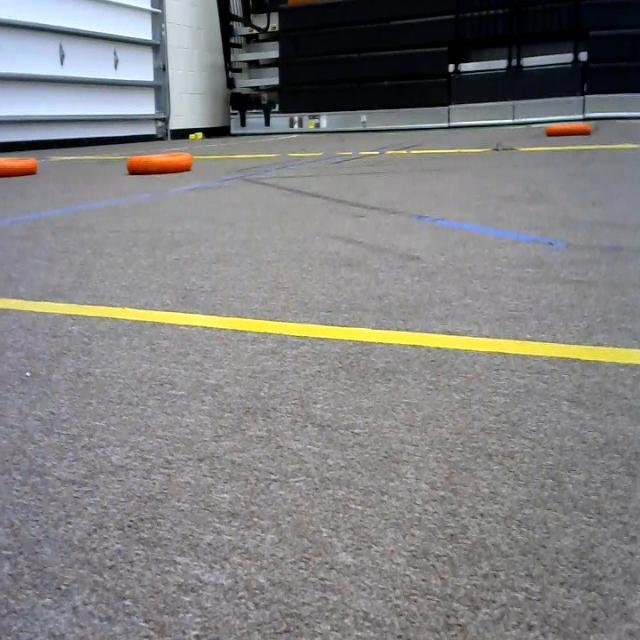note: (122, 149, 204, 178), (0, 146, 46, 191), (544, 121, 594, 141)
